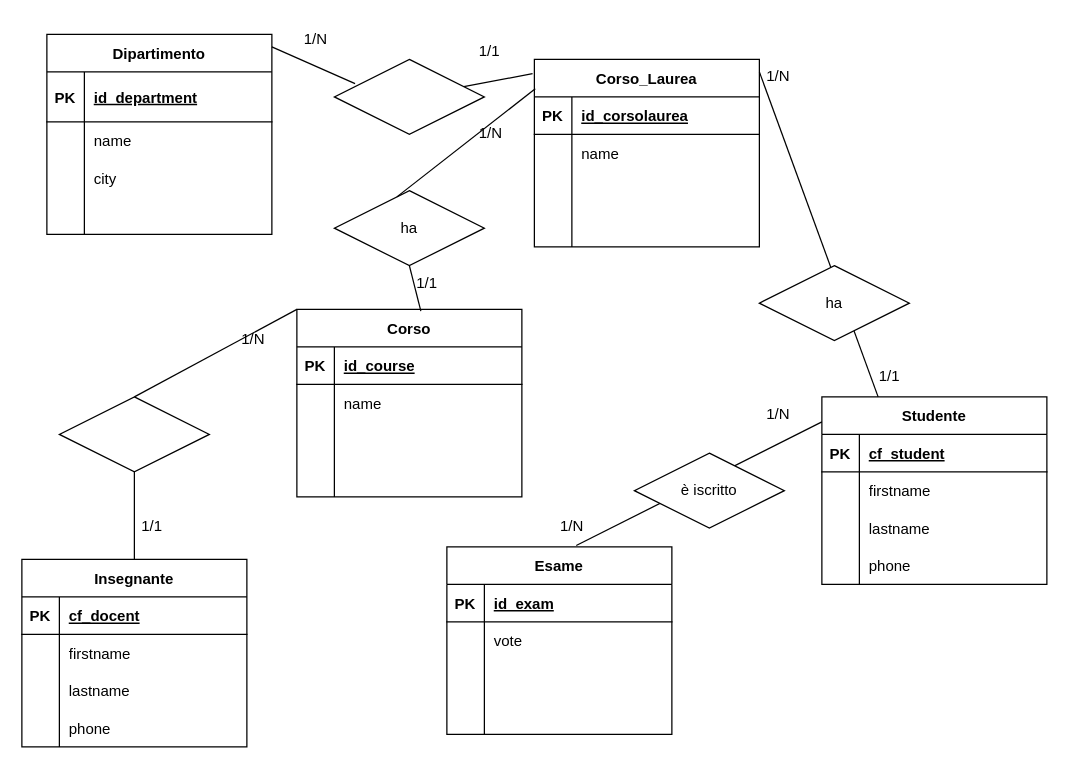
The diagram is 1069 pixels wide and 769 high, and some of its shapes have lost their labels. The centre of each missing label's shape, as x and y in pixels:
"Offre" goes at (408,96).
"è tenuto" goes at (133,434).
